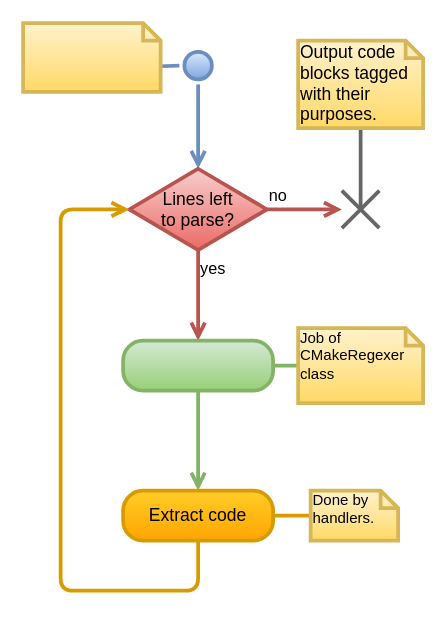
This 446x626 diagram has some shape labels left out. Here are the shapes that lost their labels. From the top down, the centre of each, then its label:
At point 91,57: "Input is a file's contents split by line.".
At point 197,365: "Get purpose".
